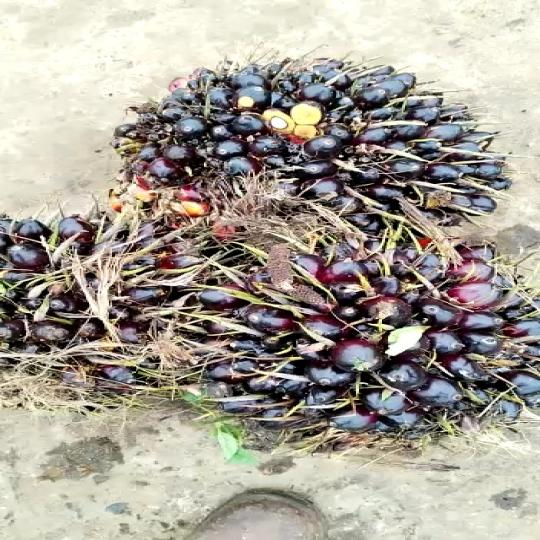mentah: (0, 190, 540, 456), (78, 41, 522, 241)
